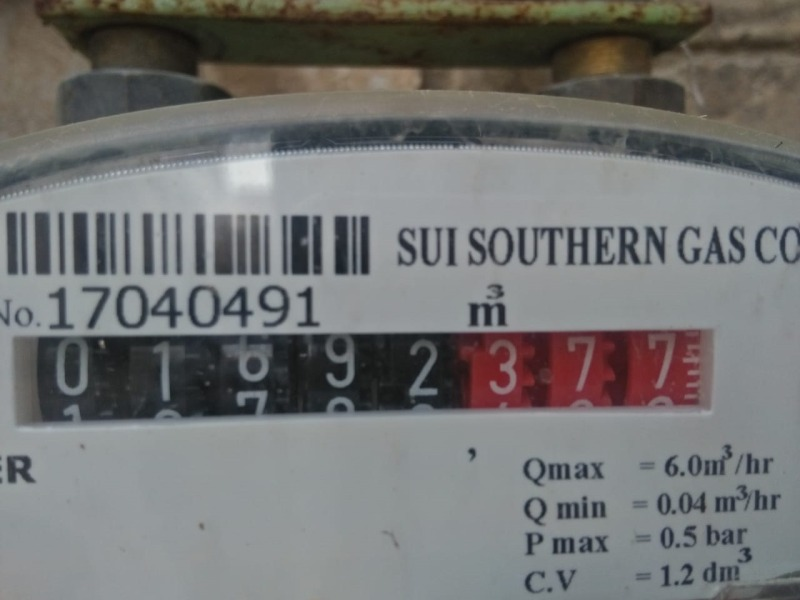ssgc: (12, 332, 714, 416)
